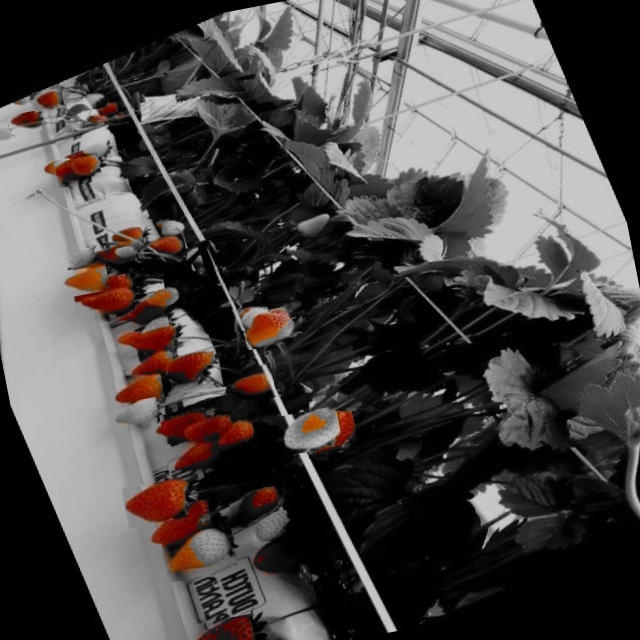ripe: (138, 499, 216, 555), (122, 478, 190, 528), (158, 348, 220, 394), (115, 321, 178, 366), (302, 409, 359, 458), (246, 534, 304, 581), (173, 411, 236, 452), (72, 272, 136, 312), (165, 440, 224, 483), (80, 282, 136, 325), (228, 486, 282, 530), (223, 362, 277, 406), (240, 306, 294, 350), (167, 614, 258, 640), (110, 370, 166, 412), (152, 406, 210, 446), (203, 418, 258, 460), (112, 296, 166, 335), (60, 264, 110, 298), (146, 230, 188, 265), (124, 351, 168, 382), (104, 222, 144, 254), (54, 156, 92, 188), (65, 152, 102, 182), (8, 110, 42, 136), (31, 87, 65, 113), (91, 100, 119, 118), (106, 112, 127, 125)
unripe: (160, 522, 239, 582), (272, 406, 343, 458), (105, 396, 161, 436), (248, 510, 294, 548), (230, 302, 272, 332), (294, 211, 334, 239), (78, 135, 114, 163), (138, 313, 171, 339), (63, 246, 98, 270), (82, 92, 108, 110), (110, 246, 134, 264), (0, 122, 12, 146)
